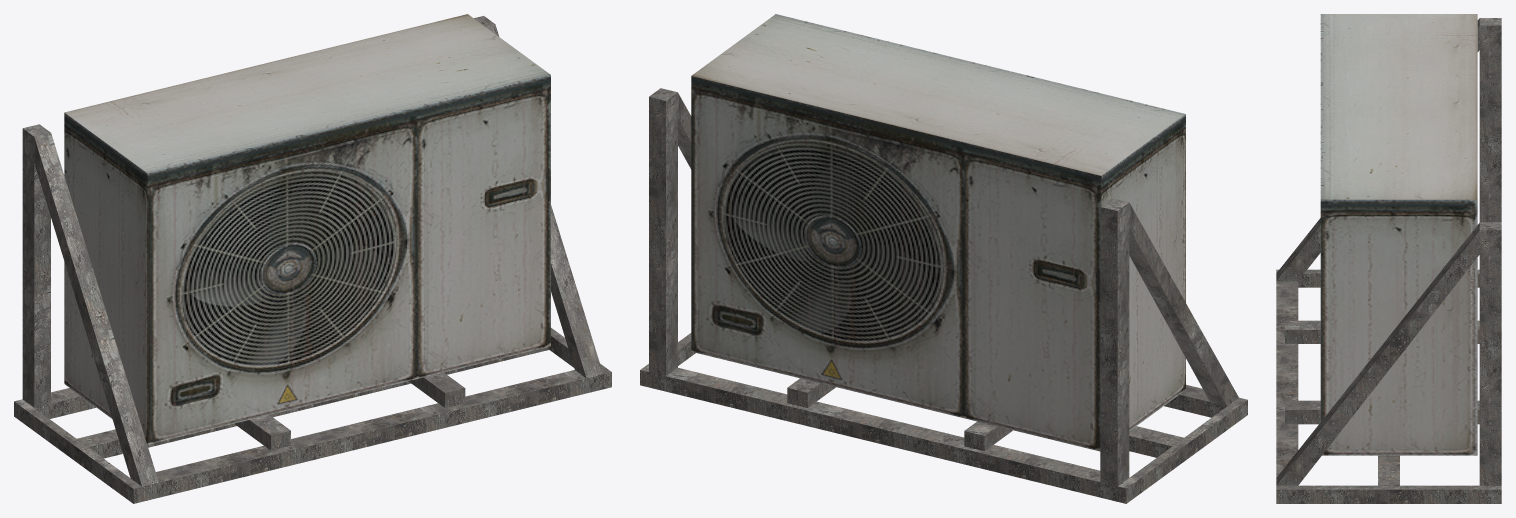
File: CT_aircon_unit_typeA_01.FBX
3 views of the same model, side by side, from view 1: azimuth 30°, elevation 25°; view 2: azimuth 150°, elevation 25°; view 3: azimuth 270°, elevation 25° (orthographic). The views are drawn at different scales.
Parts seen in each view (by area): view 1: CT_aircon_unit_typeA_01; view 2: CT_aircon_unit_typeA_01; view 3: CT_aircon_unit_typeA_01.
Boxes of the visible parts, x1=… form: CT_aircon_unit_typeA_01: x1=14, y1=14, x2=611, y2=503; CT_aircon_unit_typeA_01: x1=640, y1=14, x2=1247, y2=503; CT_aircon_unit_typeA_01: x1=1276, y1=14, x2=1501, y2=503.
Bounding box in the file's own units: 166 × 101 × 71.83.
